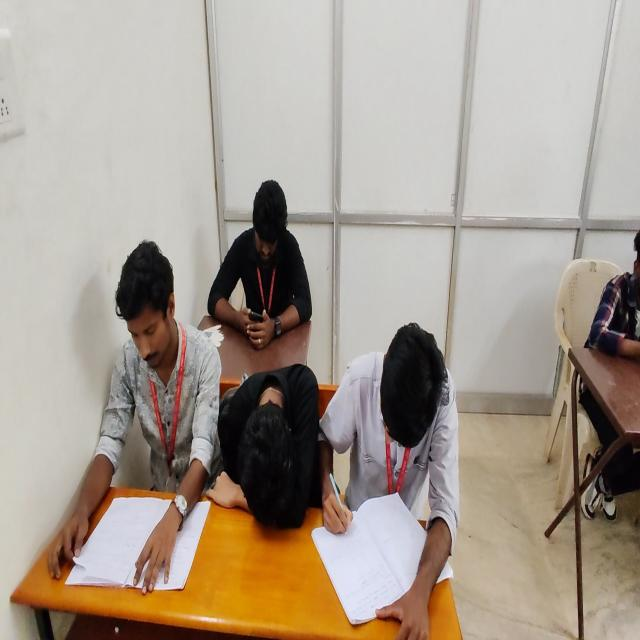reading: (48, 240, 226, 600), (317, 324, 458, 640)
sleeping: (208, 360, 324, 534)
using_mobile: (576, 217, 639, 525), (206, 180, 314, 349)
